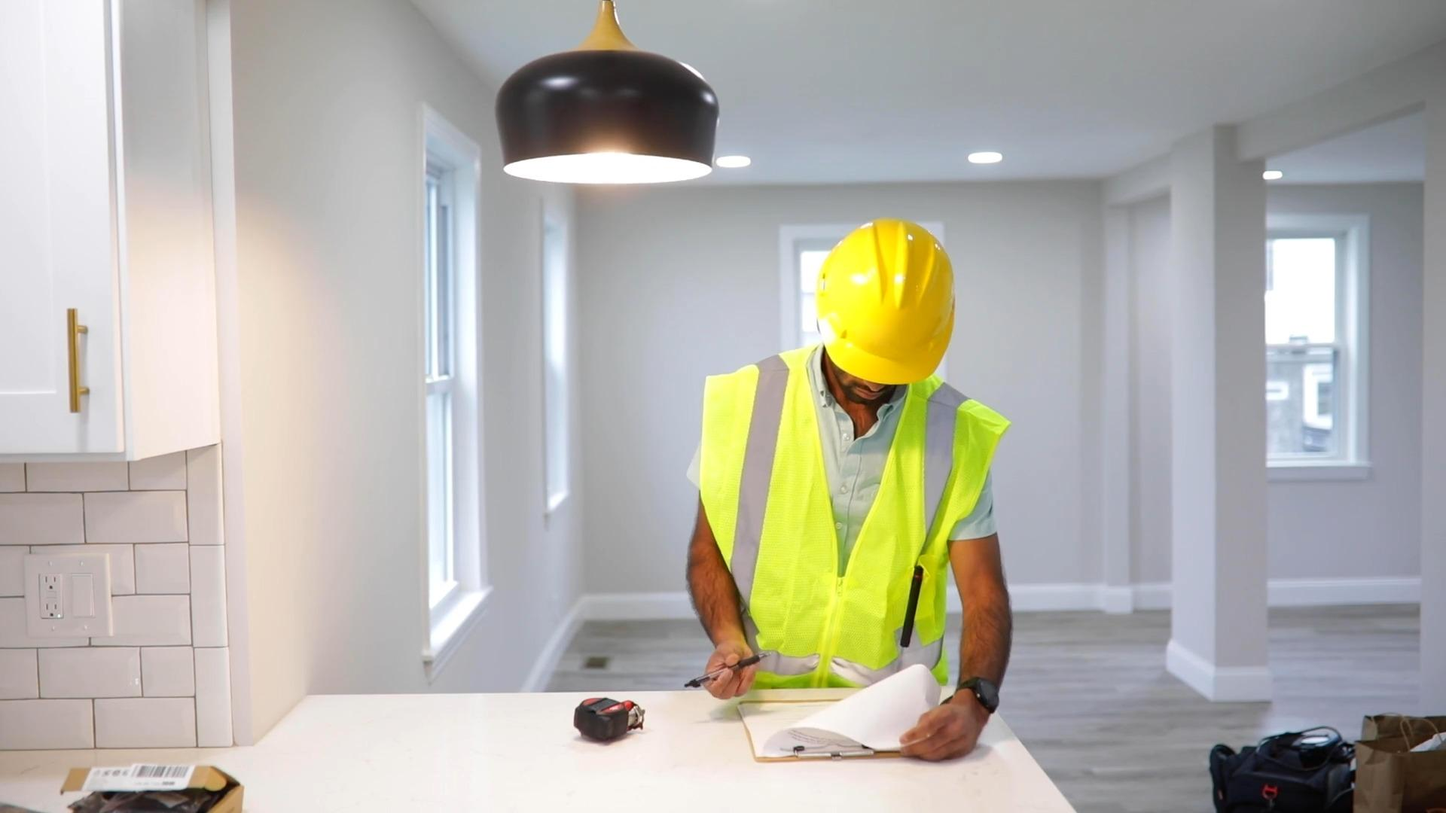Helmet: (814, 218, 955, 385)
Person: (699, 201, 1007, 764)
Safety Vest: (696, 379, 947, 680)
bare-arms: (894, 699, 995, 769), (694, 645, 757, 708)
